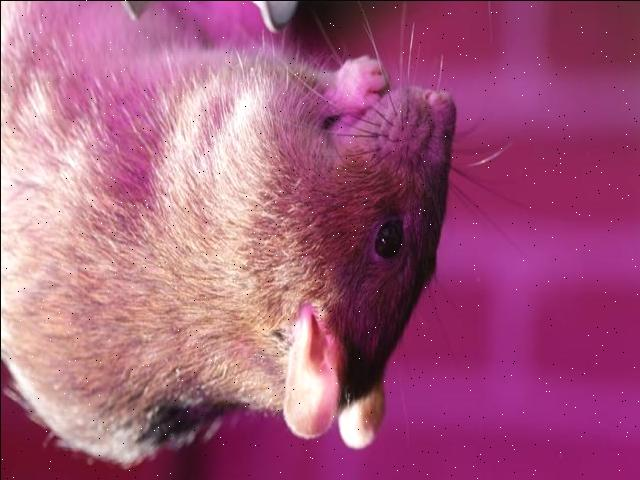Tikus: (1, 0, 455, 465)
